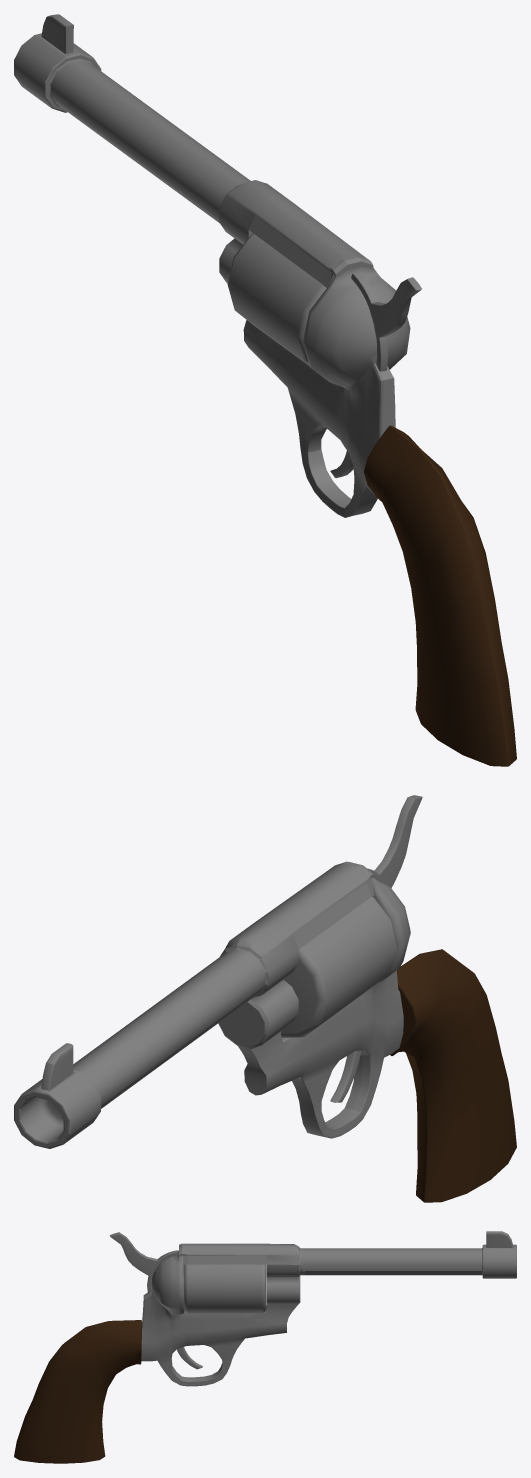
File: ma_revolver_02.fbx
3 renders of one model, top to bottom at view 1: azimuth 30°, elevation 25°; view 2: azimuth 150°, elevation 25°; view 3: azimuth 270°, elevation 25°, orthographic. The views are drawn at different scales.
Visible parts, largest first — view 1: frame2, handle, chamber, trigger1; view 2: frame2, handle, chamber, trigger1, trigger; view 3: frame2, handle, chamber, trigger1.
Part boxes in pixels (box(x1,y1,x2,y2)): frame2: box(14, 14, 410, 517); handle: box(364, 425, 516, 766); chamber: box(227, 233, 326, 365); trigger1: box(351, 272, 421, 371); frame2: box(14, 861, 410, 1148); handle: box(390, 949, 516, 1202); chamber: box(281, 896, 397, 1037); trigger1: box(367, 795, 422, 887); trigger: box(330, 1051, 361, 1102); frame2: box(141, 1231, 516, 1386); handle: box(14, 1320, 141, 1463); chamber: box(184, 1264, 266, 1313); trigger1: box(109, 1232, 178, 1293).
Size of the model in its own units: 56.8 by 227 by 458.
